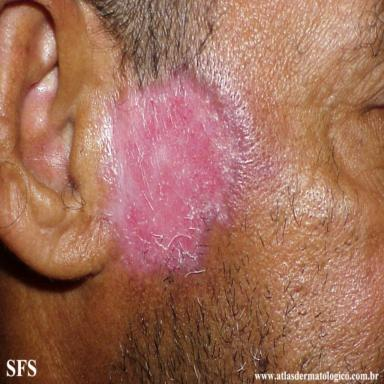Lupus-Erythematosus-Chronicus-Discoides: (94, 64, 241, 280)
